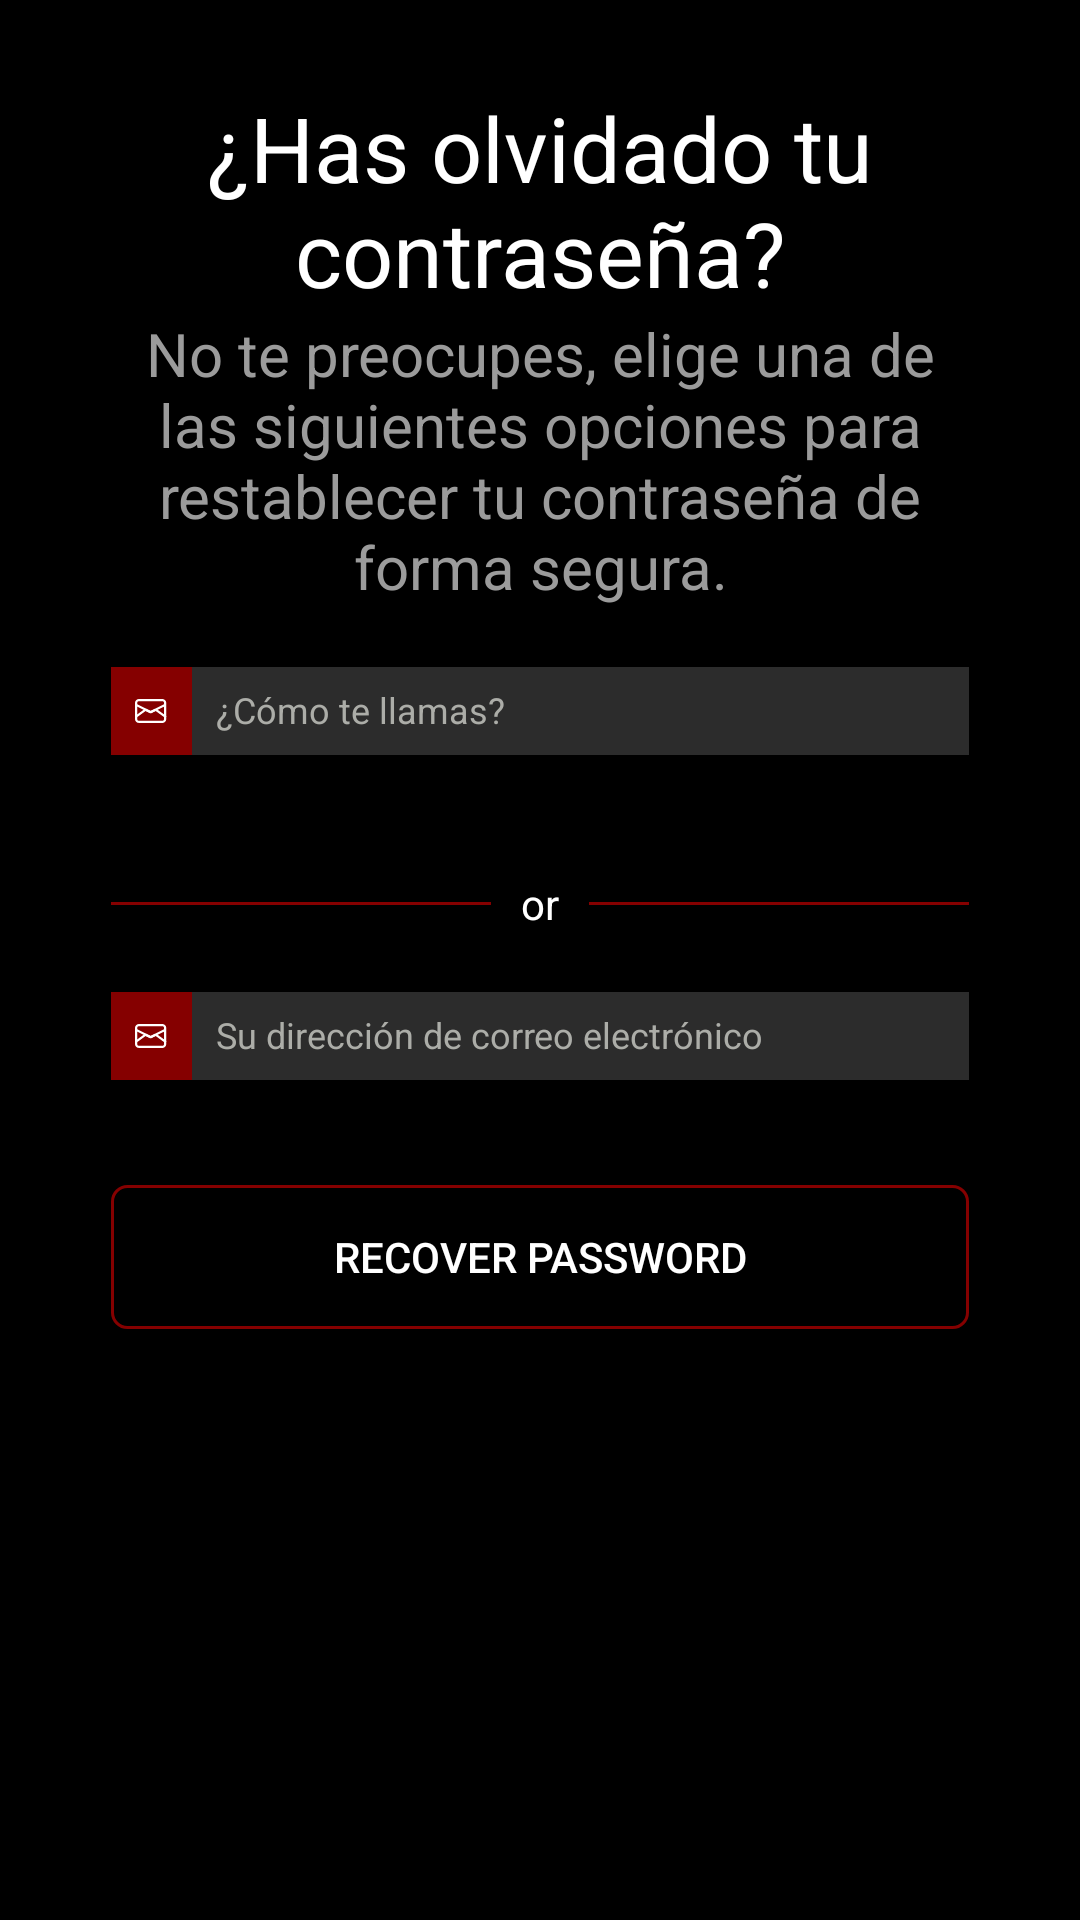

Named icons in this screenshot (1080x1920) and their centers, [x,y]:
mail: [151,711], [151,1036]
